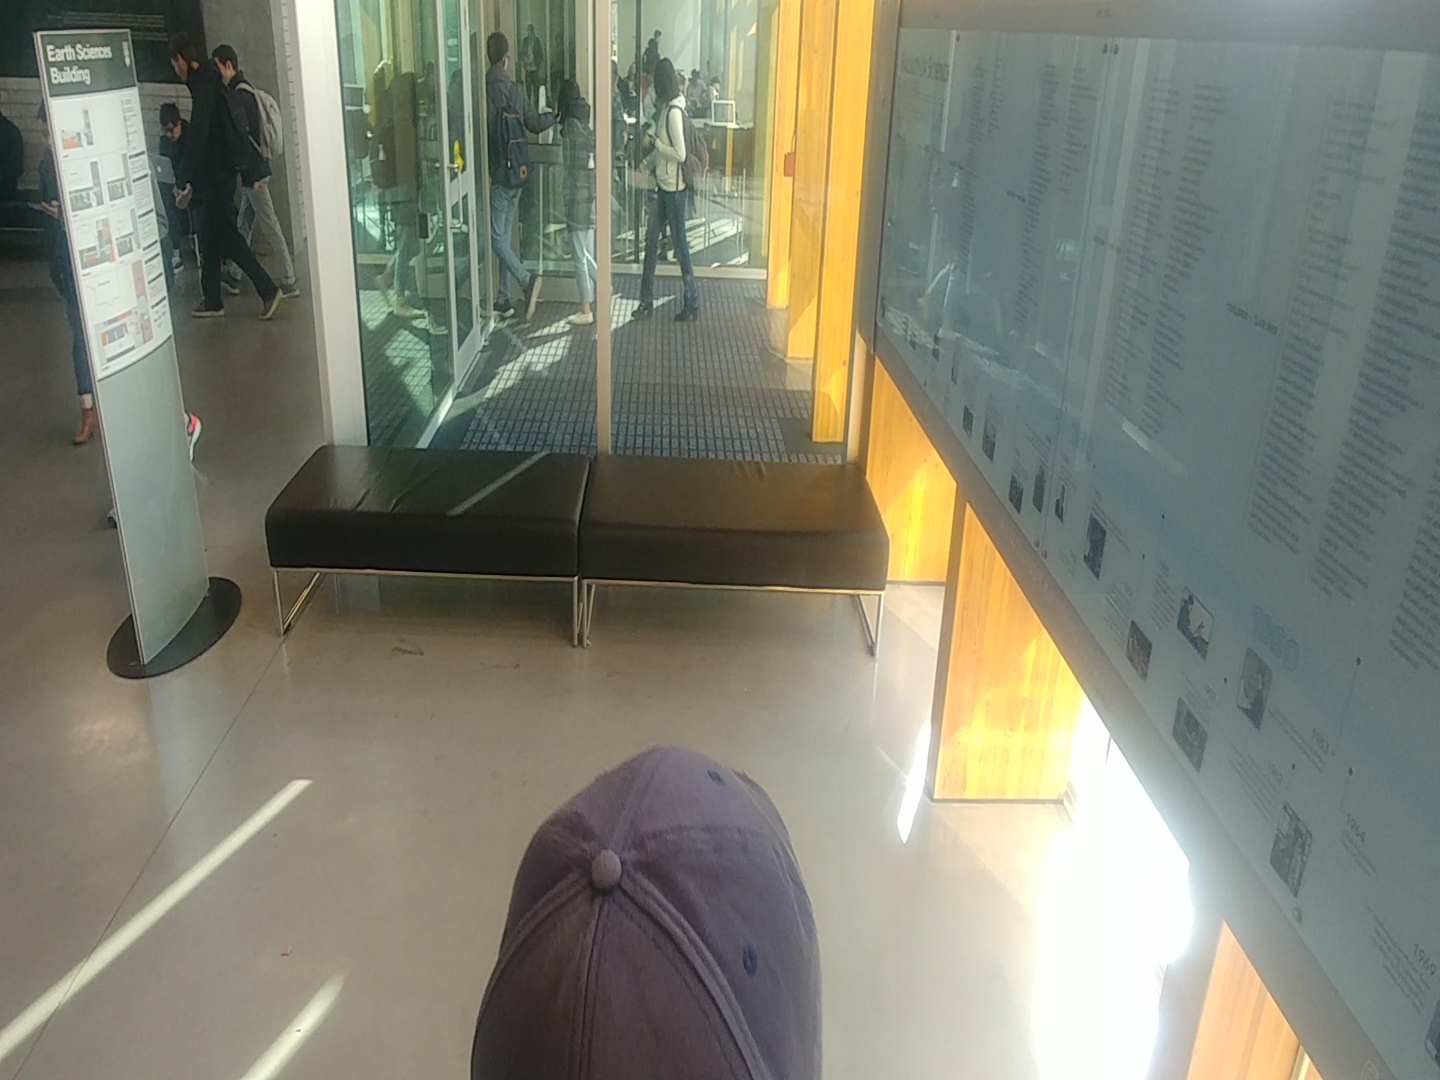face: (150, 28, 217, 90), (641, 46, 689, 117), (553, 72, 590, 131), (153, 96, 190, 146), (486, 24, 518, 77)
human: (152, 31, 279, 333), (624, 46, 712, 332), (480, 23, 548, 334), (554, 62, 597, 327), (146, 99, 191, 301)
